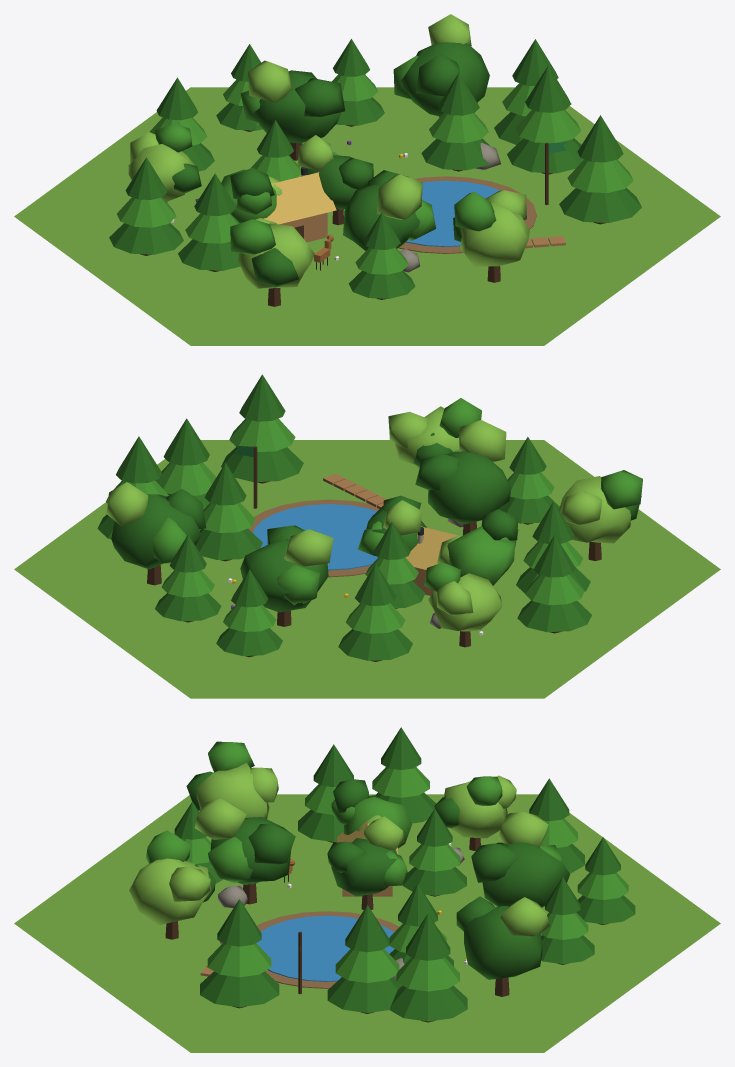
File: district_preserve_3.fbx
3 views of the same model, one above another, from view 1: azimuth 30°, elevation 25°; view 2: azimuth 150°, elevation 25°; view 3: azimuth 270°, elevation 25° (orthographic).
Visible parts, largest first — view 1: district_preserve_3; view 2: district_preserve_3; view 3: district_preserve_3.
Boxes of the visible parts, x1,y1,x2,y2 form: district_preserve_3: [14, 14, 720, 345]; district_preserve_3: [14, 374, 720, 698]; district_preserve_3: [14, 727, 720, 1052].
Bounding box in the file's own units: 182 × 35.12 × 210.
